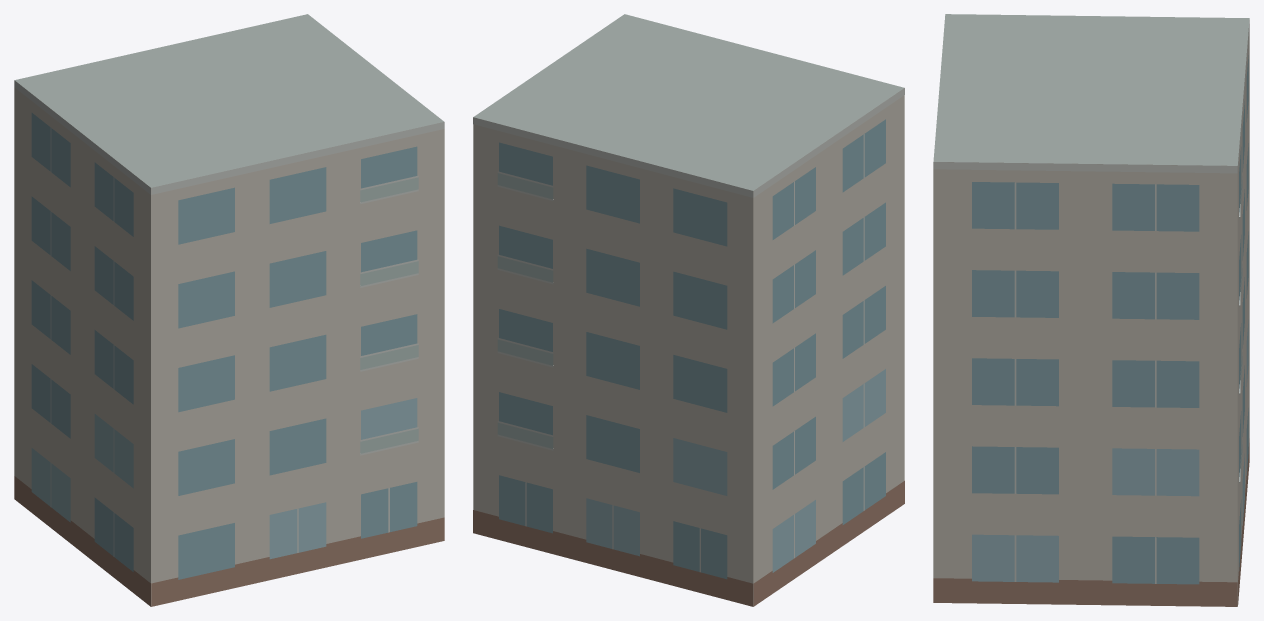
File: survey-upis-32653422.glb
3 views of the same model, side by side, from view 1: azimuth 30°, elevation 25°; view 2: azimuth 150°, elevation 25°; view 3: azimuth 270°, elevation 25° (orthographic). The views are drawn at different scales.
Visible parts, largest first — view 1: survey-upis-32653422.tmp; view 2: survey-upis-32653422.tmp; view 3: survey-upis-32653422.tmp.
Boxes of the visible parts, x1,y1,x2,y2 form: survey-upis-32653422.tmp: (14,14,444,606); survey-upis-32653422.tmp: (473,14,904,606); survey-upis-32653422.tmp: (933,14,1249,606).
Bounding box in the file's own units: 10.65 × 14.4 × 9.37.
